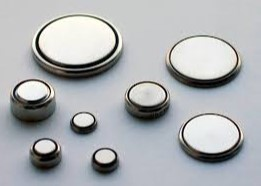battery: (36, 12, 125, 75), (166, 32, 243, 83), (179, 111, 243, 161), (9, 79, 55, 119), (125, 82, 172, 117), (31, 137, 60, 165), (93, 145, 120, 170), (70, 108, 97, 132)
